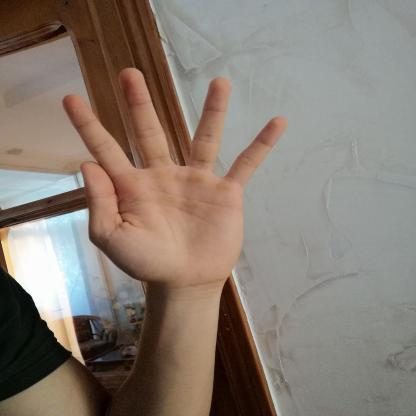SHEEN: (51, 56, 303, 302)
